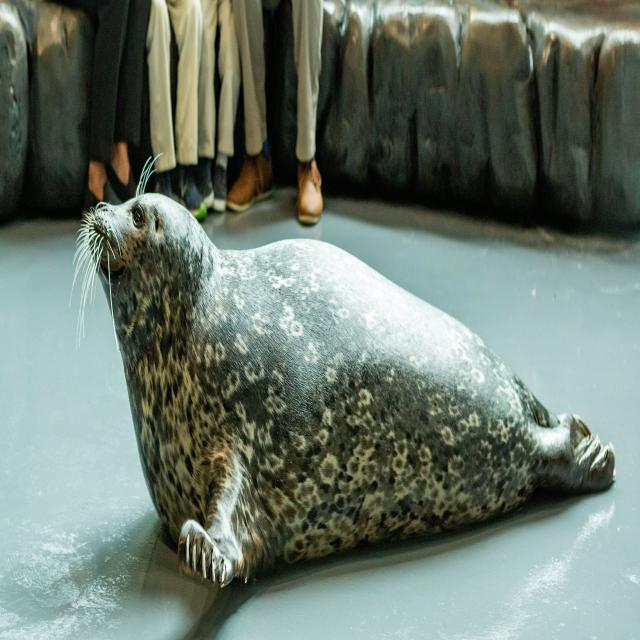WaterDog: (75, 165, 622, 607)
